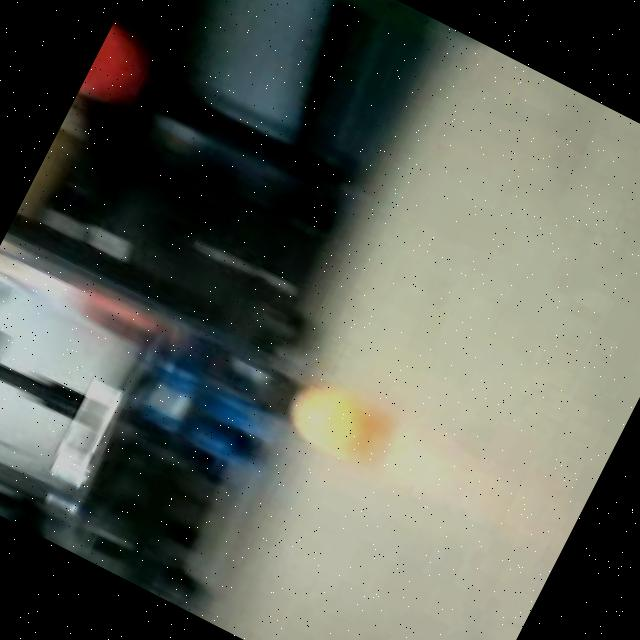ping-pong-ball: (262, 368, 390, 478), (73, 9, 164, 123)
